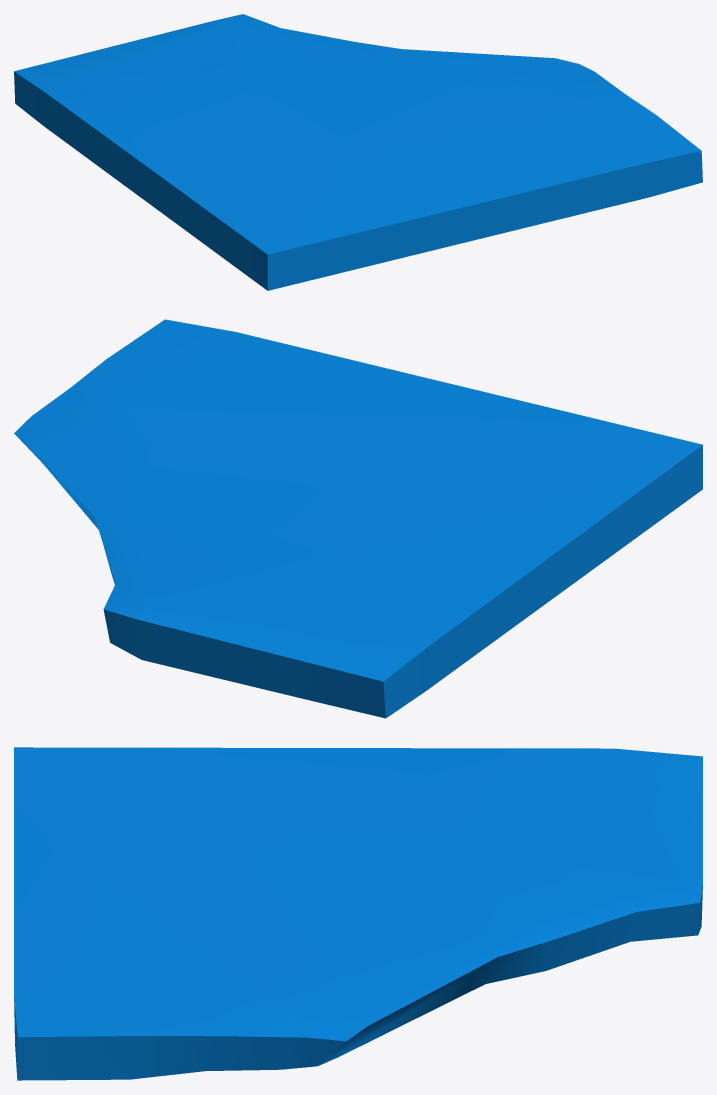
File: Floor_02.fbx
3 views of the same model, one above another, from view 1: azimuth 30°, elevation 25°; view 2: azimuth 150°, elevation 25°; view 3: azimuth 270°, elevation 25° (orthographic). The views are drawn at different scales.
Visible parts, largest first — view 1: Floor_02; view 2: Floor_02; view 3: Floor_02.
Part boxes in pixels (<box>): Floor_02: <box>14,14,702,290</box>; Floor_02: <box>14,319,702,718</box>; Floor_02: <box>14,747,702,1080</box>.
Size of the model in its own units: 1561 by 124 by 1590.
